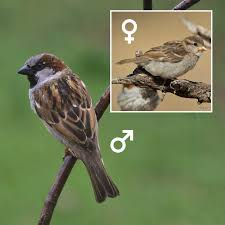hsparrow: (11, 51, 121, 205), (115, 31, 207, 86)
